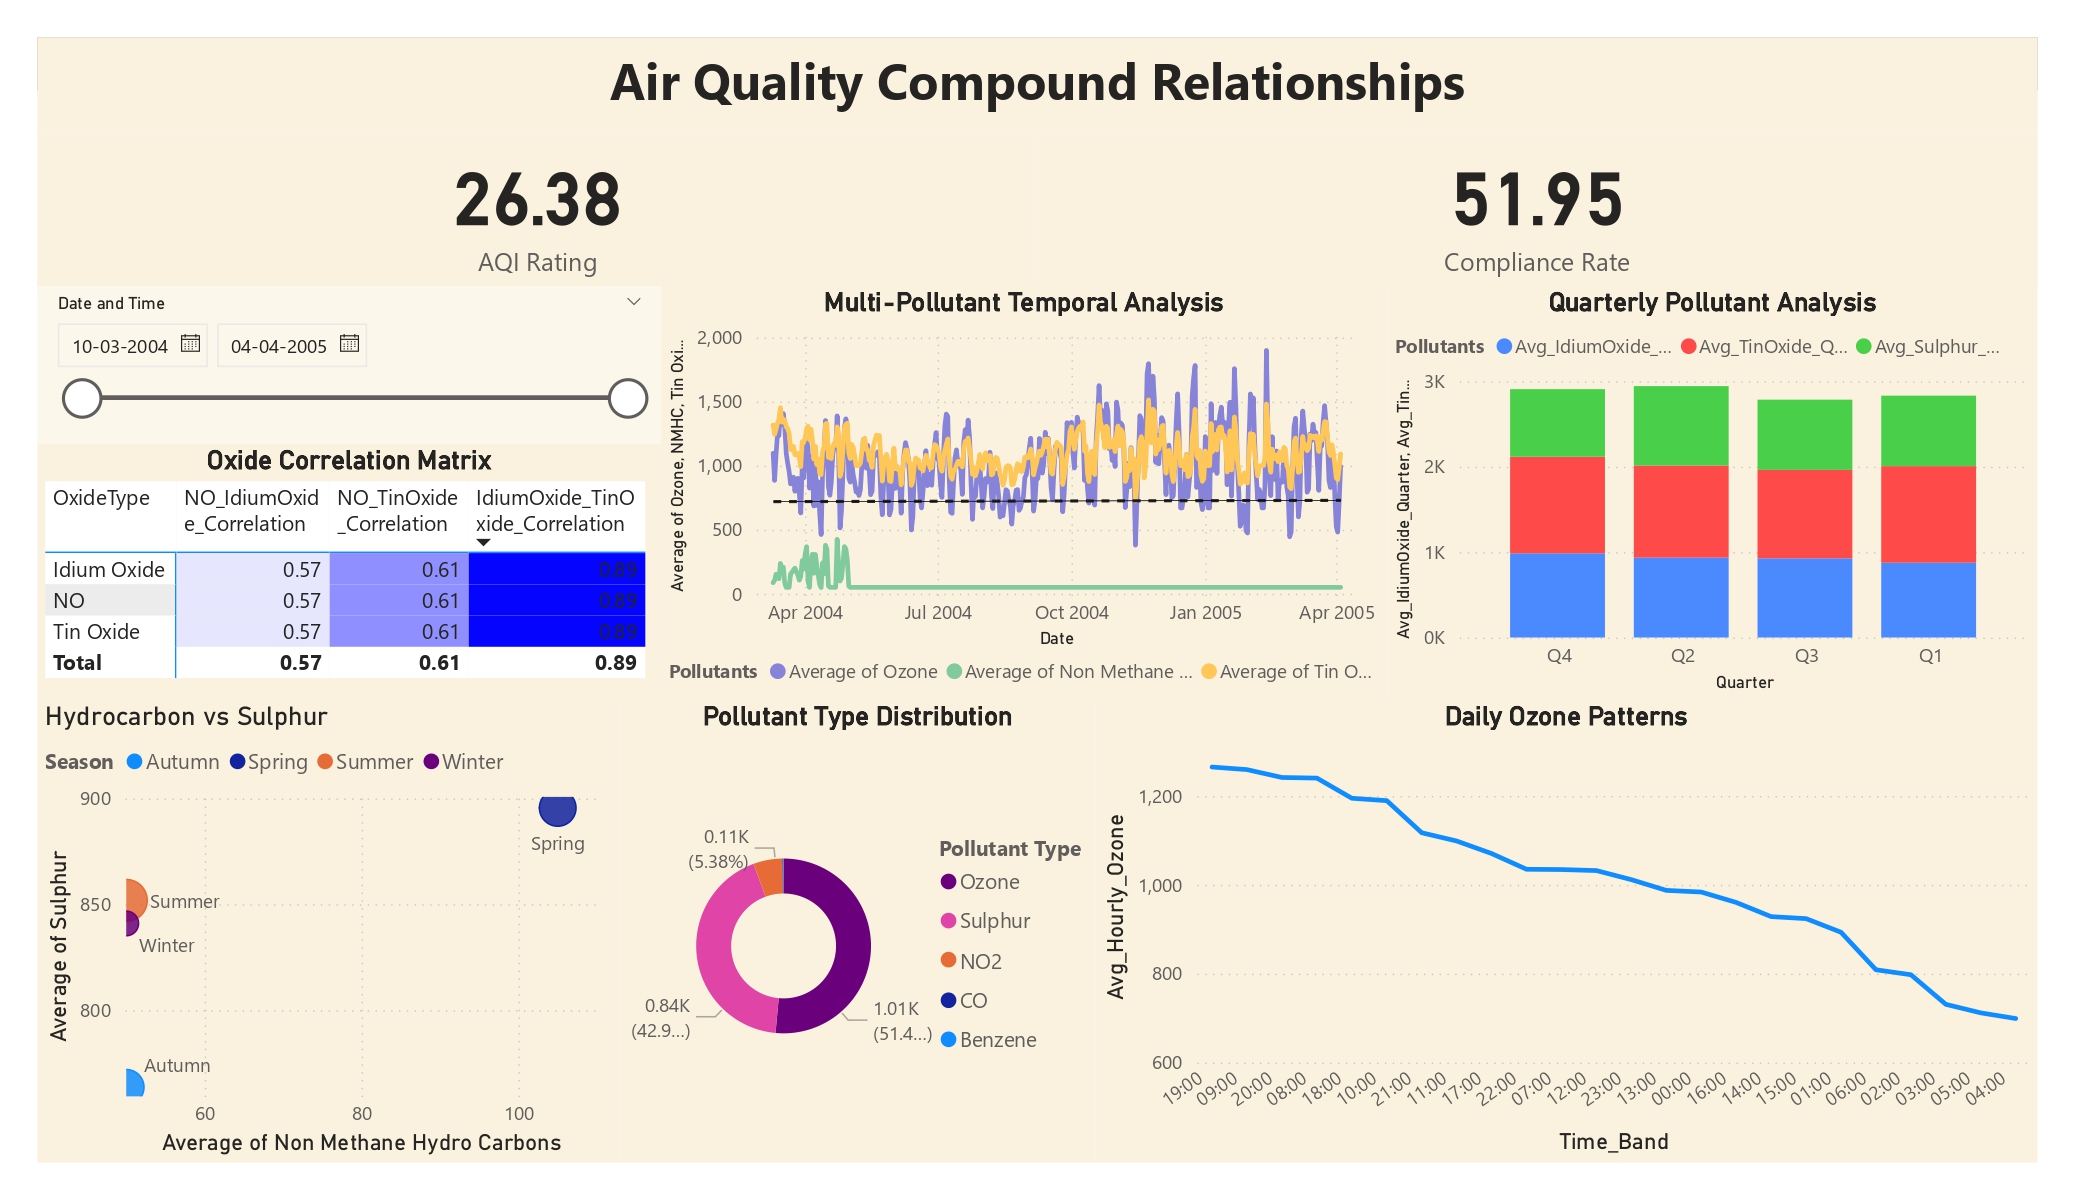

Layout of this report page (visuals, bound fields, positions):
{"tool":"powerbi","page":{"name":"Advanced Compound Relations","canvas":[1280,720],"ordinal":1},"visuals":[{"type":"textbox","box":[0,0,1280,58.6],"z":0},{"type":"card","fields":{"Values":["AirQualityUCI.AQI Rating"]},"box":[0,58.6,640,100],"z":1},{"type":"card","fields":{"Values":["AirQualityUCI.Compliance Rate"]},"box":[640,58.6,640,100],"z":2},{"type":"lineChart","title":"Multi-Pollutant Temporal Analysis","fields":{"Category":["AirQualityUCI.Date"],"Y":["Avg(AirQualityUCI.Ozone)","Avg(AirQualityUCI.Non Methane Hydro Carbons)","Avg(AirQualityUCI.Tin Oxide)"]},"box":[398.6,158.6,465.7,265.7],"z":3},{"type":"scatterChart","title":"Hydrocarbon vs Sulphur","fields":{"X":["Avg(AirQualityUCI.Non Methane Hydro Carbons)"],"Y":["Avg(AirQualityUCI.Sulphur)"],"Size":["Sum(AirQualityUCI.Temperature in Celsius)"],"Series":["AirQualityUCI.Season"]},"box":[0,424.3,372.9,295.7],"z":4},{"type":"pivotTable","title":"Oxide Correlation Matrix","fields":{"Rows":["OxideTypes.OxideType"],"Columns":["OxideTypes.OxideType"],"Values":["AirQualityUCI.NO_IdiumOxide_Correlation","AirQualityUCI.NO_TinOxide_Correlation","AirQualityUCI.IdiumOxide_TinOxide_Correlation"]},"box":[0,260,398.6,164.3],"z":5},{"type":"lineChart","title":"Daily Ozone Patterns","fields":{"Category":["AirQualityUCI.Time_Band"],"Y":["AirQualityUCI.Avg_Hourly_Ozone"]},"box":[677.1,424.3,602.9,295.7],"z":6},{"type":"donutChart","title":"Pollutant Type Distribution","fields":{"Category":["Pollutant_Summary.Pollutant Type"],"Y":["Sum(Pollutant_Summary.Average)"]},"box":[372.9,424.3,304.3,295.7],"z":7},{"type":"slicer","fields":{"Values":["AirQualityUCI.Date and Time"]},"box":[0,158.6,398.6,101.4],"z":8},{"type":"columnChart","title":"Quarterly Pollutant Analysis","fields":{"Category":["AirQualityUCI.Quarter"],"Y":["AirQualityUCI.Avg_IdiumOxide_Quarter","AirQualityUCI.Avg_TinOxide_Quarter","AirQualityUCI.Avg_Sulphur_Quarter"]},"box":[864.3,158.6,415.7,265.7],"z":9}]}

Visuals, with their boxes on the page's 1280x720 design canvas (x1, y1, x2, y2). These are canvas units, not pixel positions in the 2075x1200 screenshot, which may show the page scaled, cropped or inside an application window:
textbox: Rect(0, 0, 1280, 59)
card - AirQualityUCI.AQI Rating: Rect(0, 59, 640, 159)
card - AirQualityUCI.Compliance Rate: Rect(640, 59, 1280, 159)
"Multi-Pollutant Temporal Analysis" lineChart: Rect(399, 159, 864, 424)
"Hydrocarbon vs Sulphur" scatterChart: Rect(0, 424, 373, 720)
"Oxide Correlation Matrix" pivotTable: Rect(0, 260, 399, 424)
"Daily Ozone Patterns" lineChart: Rect(677, 424, 1280, 720)
"Pollutant Type Distribution" donutChart: Rect(373, 424, 677, 720)
slicer - AirQualityUCI.Date and Time: Rect(0, 159, 399, 260)
"Quarterly Pollutant Analysis" columnChart: Rect(864, 159, 1280, 424)
